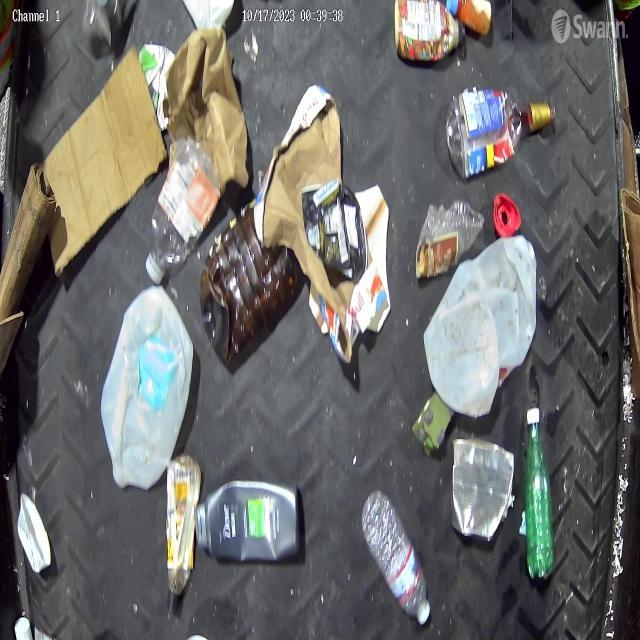milk_jug: (426, 228, 540, 414), (102, 286, 194, 497)
non_white_jug: (196, 481, 304, 561)
plastic_bottle: (146, 136, 222, 284), (360, 487, 432, 624), (447, 90, 557, 177)
